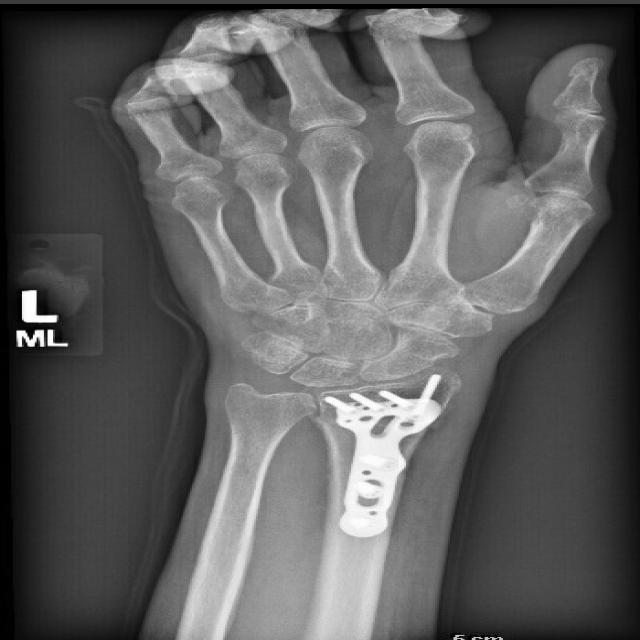x-ray: (302, 371, 466, 545)
